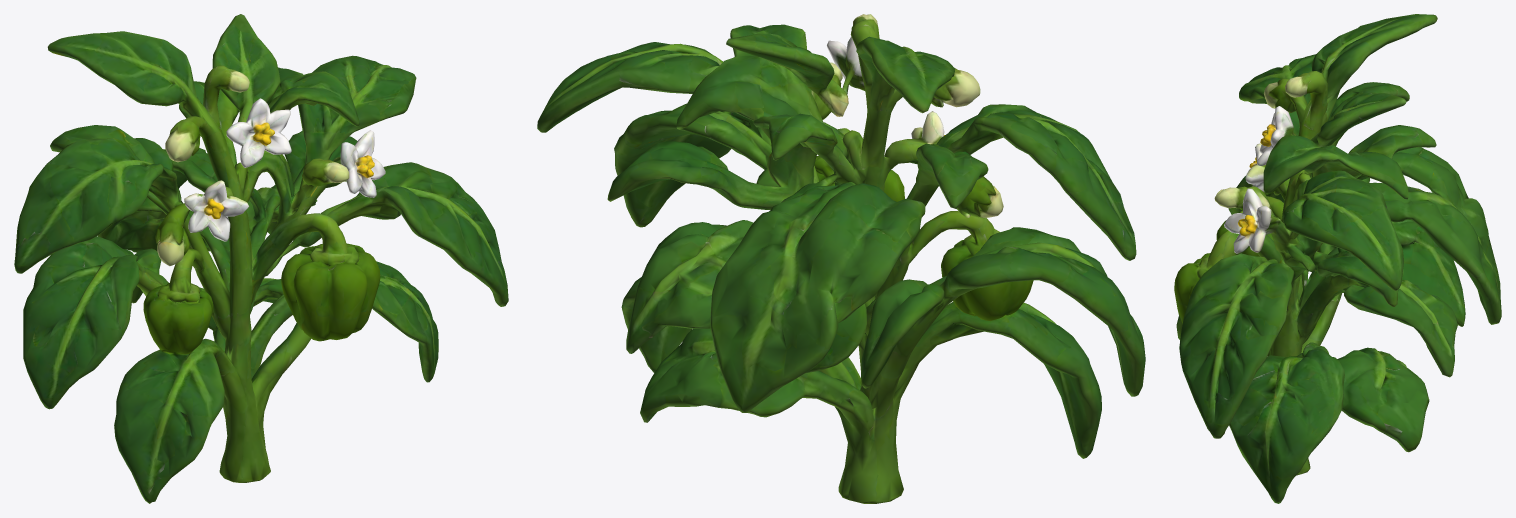
File: pepper-growing.glb
The picture shows the model from 3 angles, left to right: view 1: azimuth 30°, elevation 25°; view 2: azimuth 150°, elevation 25°; view 3: azimuth 270°, elevation 25°; orthographic projection. The views are drawn at different scales.
Size of the model in its own units: 1.9 by 1.66 by 1.21.
Materials: 1 (1 with a texture image).
